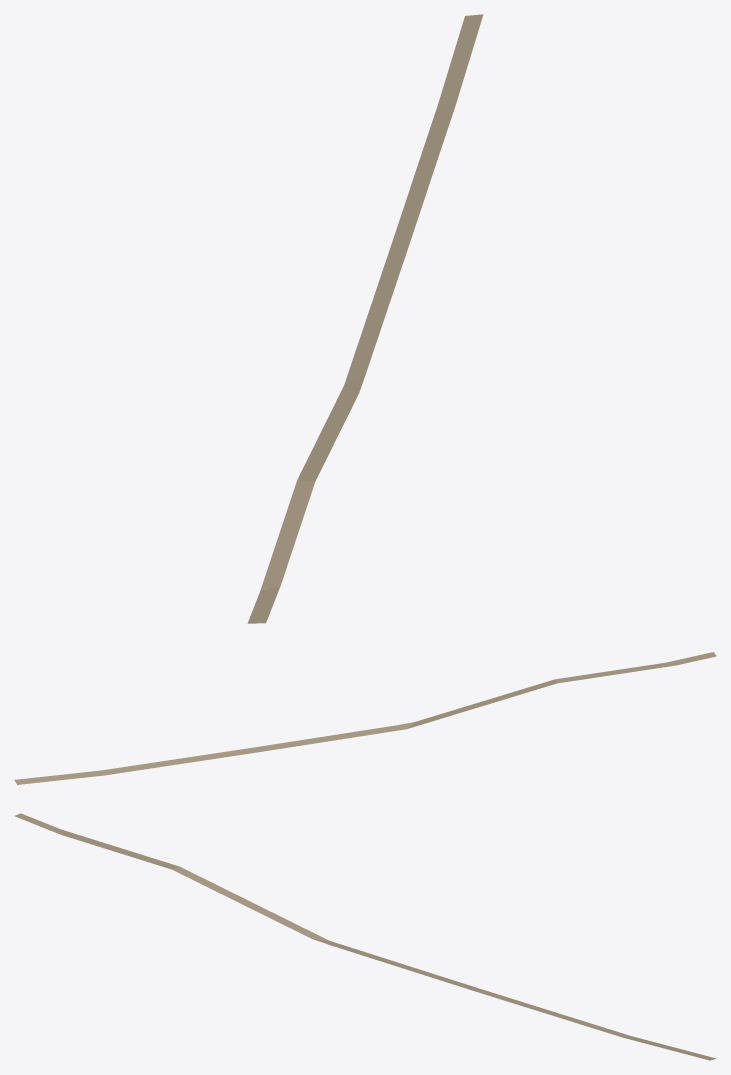
The model's file is farm_0_-1_track.glb.
3 views of the same model, one above another, from view 1: azimuth 30°, elevation 25°; view 2: azimuth 150°, elevation 25°; view 3: azimuth 270°, elevation 25° (orthographic). The views are drawn at different scales.
Visible parts, largest first — view 1: geometry_0; view 2: geometry_0; view 3: geometry_0.
Part boxes in pixels (x1,y1,x2,y2): geometry_0: [247, 14, 483, 623]; geometry_0: [14, 652, 716, 784]; geometry_0: [14, 813, 716, 1060].
Bounding box in the file's own units: 166 × 8.29 × 209.
